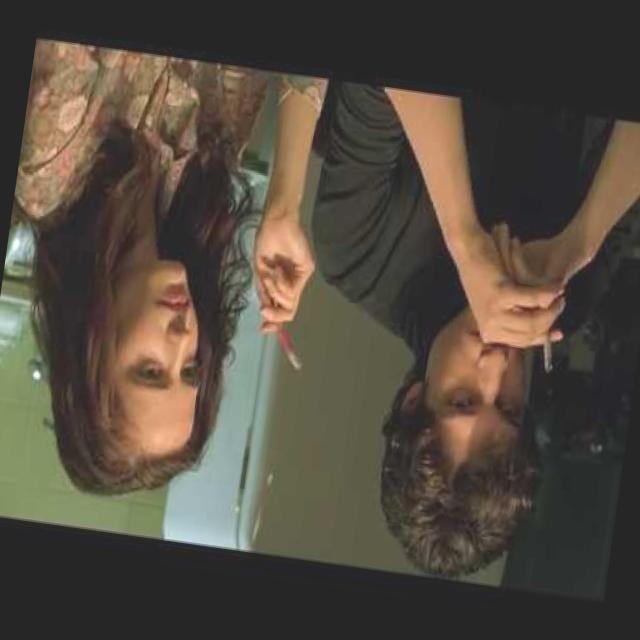smoke: (238, 280, 326, 394), (524, 318, 570, 384)
